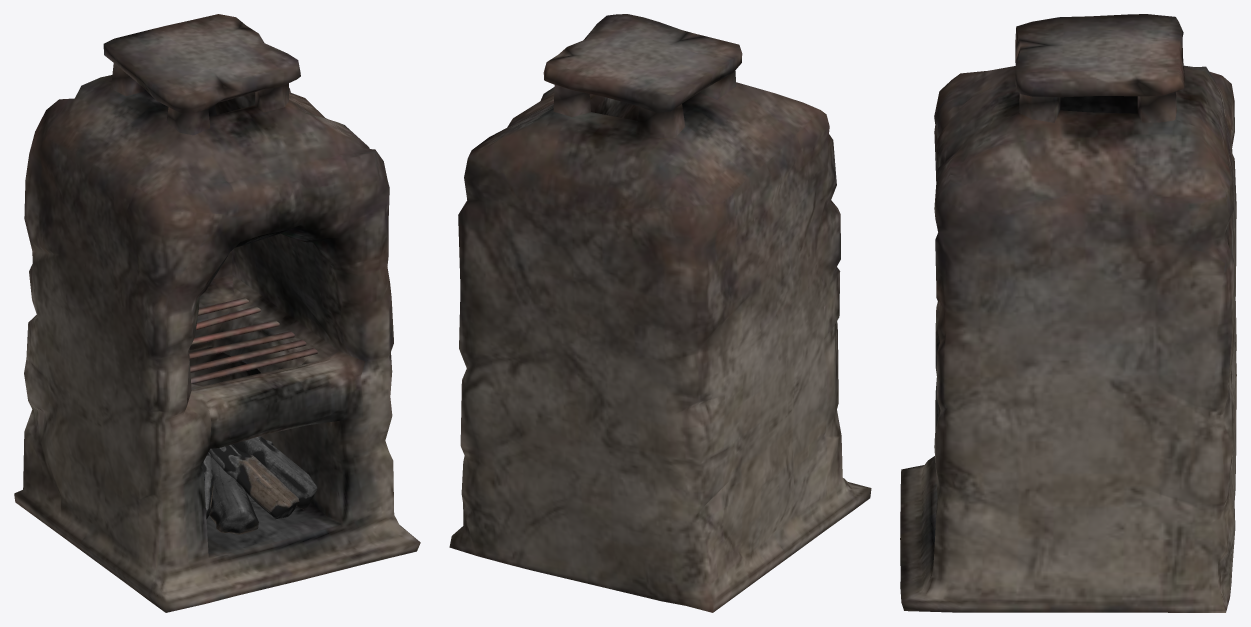
The model's file is oven.glb.
3 views of the same model, side by side, from view 1: azimuth 30°, elevation 25°; view 2: azimuth 150°, elevation 25°; view 3: azimuth 270°, elevation 25° (orthographic). The views are drawn at different scales.
Parts seen in each view (by area): view 1: npc_props_oven_00; view 2: npc_props_oven_00; view 3: npc_props_oven_00.
Part boxes in pixels (x1,y1,x2,y2): npc_props_oven_00: (14,14,420,612); npc_props_oven_00: (449,14,871,612); npc_props_oven_00: (900,14,1236,612).
Size of the model in its own units: 1.06 by 1.83 by 1.12.
2 materials, 2 textured.
